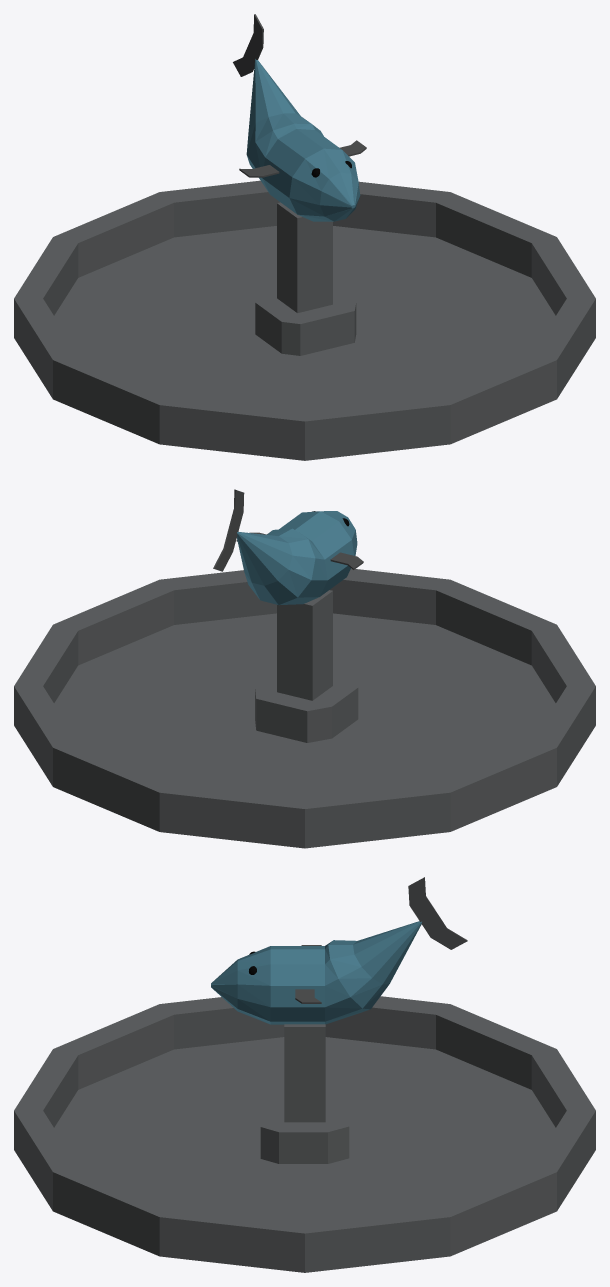
File: Fontaine.fbx
The picture shows the model from 3 angles, top to bottom: view 1: azimuth 30°, elevation 25°; view 2: azimuth 150°, elevation 25°; view 3: azimuth 270°, elevation 25°; orthographic projection.
Visible parts, largest first — view 1: pCylinder1, pCylinder2, pCube1, pCube5, pCube2; view 2: pCylinder1, pCylinder2, pCube1, pCube5, pCube2; view 3: pCylinder1, pCylinder2, pCube5, pCube1, pCube2.
Part boxes in pixels (bbox=[...]): pCylinder1: bbox=[14, 180, 595, 460]; pCylinder2: bbox=[246, 59, 360, 221]; pCube1: bbox=[277, 202, 332, 313]; pCube5: bbox=[255, 285, 356, 355]; pCube2: bbox=[233, 14, 263, 76]; pCylinder1: bbox=[14, 568, 595, 848]; pCylinder2: bbox=[237, 511, 357, 605]; pCube1: bbox=[277, 590, 332, 700]; pCube5: bbox=[255, 672, 358, 742]; pCube2: bbox=[213, 489, 244, 571]; pCylinder1: bbox=[14, 996, 595, 1272]; pCylinder2: bbox=[211, 921, 421, 1024]; pCube5: bbox=[260, 1094, 349, 1163]; pCube1: bbox=[284, 1024, 325, 1122]; pCube2: bbox=[408, 877, 467, 949].
Bounding box in the file's own units: 6.56 × 3.45 × 6.56.
